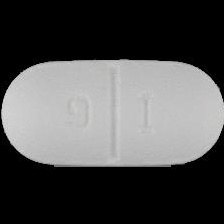68788-9149: (0, 0, 224, 224)
